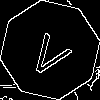V: (25, 25, 78, 81)
